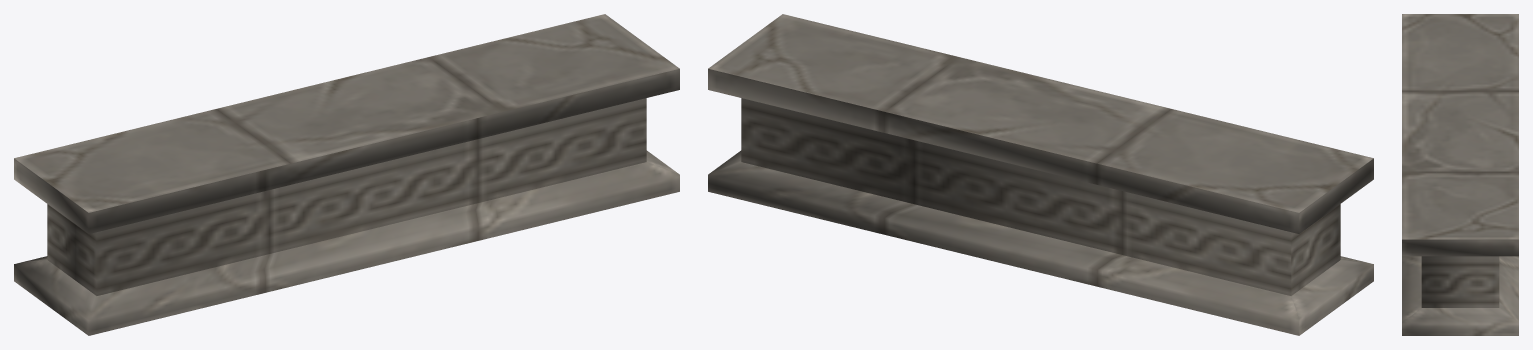
File: ruin_pillar_7.FBX
3 views of the same model, side by side, from view 1: azimuth 30°, elevation 25°; view 2: azimuth 150°, elevation 25°; view 3: azimuth 270°, elevation 25° (orthographic). The views are drawn at different scales.
Parts seen in each view (by area): view 1: Object027; view 2: Object027; view 3: Object027.
Boxes of the visible parts, x1,y1,x2,y2 form: Object027: [14, 14, 679, 335]; Object027: [708, 14, 1373, 335]; Object027: [1402, 14, 1518, 335].
Bounding box in the file's own units: 3.56 × 0.7072 × 0.7788.
